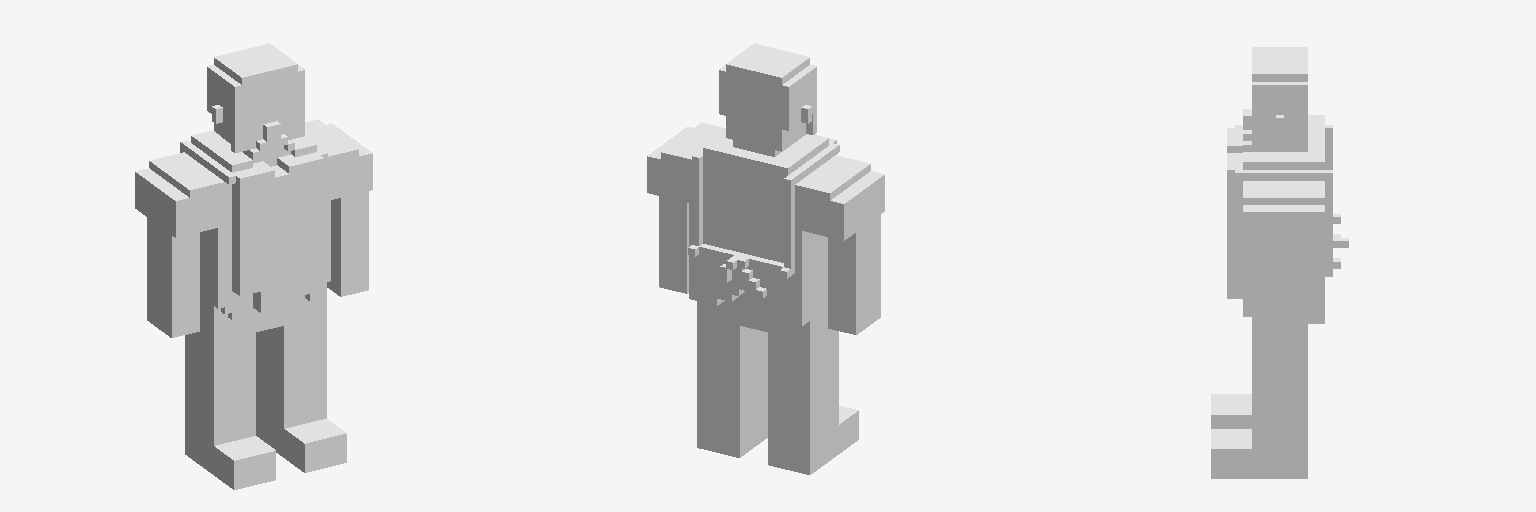
The model's file is Trabalhador_Moinho.obj.
3 views of the same model, side by side, from view 1: azimuth 30°, elevation 25°; view 2: azimuth 150°, elevation 25°; view 3: azimuth 270°, elevation 25° (orthographic).
Bounding box in the file's own units: 28 × 53 × 17.